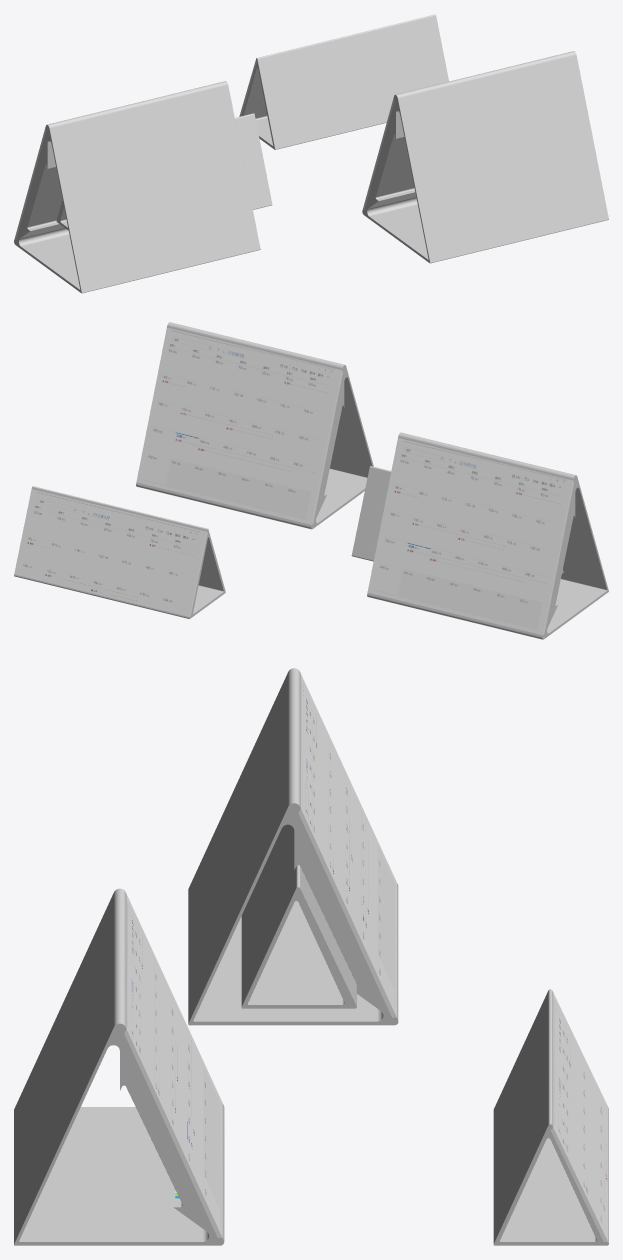
File: model_misscalender.glb
3 renders of one model, top to bottom at view 1: azimuth 30°, elevation 25°; view 2: azimuth 150°, elevation 25°; view 3: azimuth 270°, elevation 25°, orthographic. The views are drawn at different scales.
Visible parts, largest first — view 1: 壳(233BE3EA-20D4-435D-929D-E2374D425728), 壳(586AB3E5-2E3E-4724-AD81-733462F689DF), 壳(F1C467EC-24E8-4374-80B0-E0D316CD679B), 壳(BFE8B214-6F0F-40A7-B7E2-39DF67CBC404); view 2: 壳(D748B48C-BE3E-434B-A3D2-83324A9A0FE0), 壳(E7E26201-B2B5-4595-A1F5-FB3C9D72D7EC), 壳(0CB41143-ECF8-42AC-BD93-C98B9650D7B2), 壳(586AB3E5-2E3E-4724-AD81-733462F689DF), 壳(233BE3EA-20D4-435D-929D-E2374D425728), 壳(F1C467EC-24E8-4374-80B0-E0D316CD679B), 壳(BFE8B214-6F0F-40A7-B7E2-39DF67CBC404); view 3: 壳(233BE3EA-20D4-435D-929D-E2374D425728), 壳(586AB3E5-2E3E-4724-AD81-733462F689DF), 壳(F1C467EC-24E8-4374-80B0-E0D316CD679B), 壳(D748B48C-BE3E-434B-A3D2-83324A9A0FE0), 壳(E7E26201-B2B5-4595-A1F5-FB3C9D72D7EC), 壳(BFE8B214-6F0F-40A7-B7E2-39DF67CBC404), 壳(0CB41143-ECF8-42AC-BD93-C98B9650D7B2).
Boxes of the visible parts, bbox=[...] form: 壳(233BE3EA-20D4-435D-929D-E2374D425728): bbox=[362, 51, 608, 263]; 壳(586AB3E5-2E3E-4724-AD81-733462F689DF): bbox=[14, 81, 260, 293]; 壳(F1C467EC-24E8-4374-80B0-E0D316CD679B): bbox=[241, 14, 448, 149]; 壳(BFE8B214-6F0F-40A7-B7E2-39DF67CBC404): bbox=[56, 113, 272, 230]; 壳(D748B48C-BE3E-434B-A3D2-83324A9A0FE0): bbox=[136, 327, 342, 524]; 壳(E7E26201-B2B5-4595-A1F5-FB3C9D72D7EC): bbox=[367, 438, 573, 635]; 壳(0CB41143-ECF8-42AC-BD93-C98B9650D7B2): bbox=[14, 489, 207, 616]; 壳(586AB3E5-2E3E-4724-AD81-733462F689DF): bbox=[367, 432, 608, 639]; 壳(233BE3EA-20D4-435D-929D-E2374D425728): bbox=[136, 322, 373, 529]; 壳(F1C467EC-24E8-4374-80B0-E0D316CD679B): bbox=[14, 486, 225, 618]; 壳(BFE8B214-6F0F-40A7-B7E2-39DF67CBC404): bbox=[351, 466, 563, 573]; 壳(233BE3EA-20D4-435D-929D-E2374D425728): bbox=[14, 888, 224, 1245]; 壳(586AB3E5-2E3E-4724-AD81-733462F689DF): bbox=[188, 668, 398, 1025]; 壳(F1C467EC-24E8-4374-80B0-E0D316CD679B): bbox=[493, 989, 608, 1245]; 壳(D748B48C-BE3E-434B-A3D2-83324A9A0FE0): bbox=[124, 894, 222, 1237]; 壳(E7E26201-B2B5-4595-A1F5-FB3C9D72D7EC): bbox=[298, 674, 396, 1017]; 壳(BFE8B214-6F0F-40A7-B7E2-39DF67CBC404): bbox=[241, 824, 356, 1008]; 壳(0CB41143-ECF8-42AC-BD93-C98B9650D7B2): bbox=[550, 993, 608, 1241].
Bounding box in the file's own units: 0.395 × 0.1152 × 0.2795.
8 materials, 3 textured.
